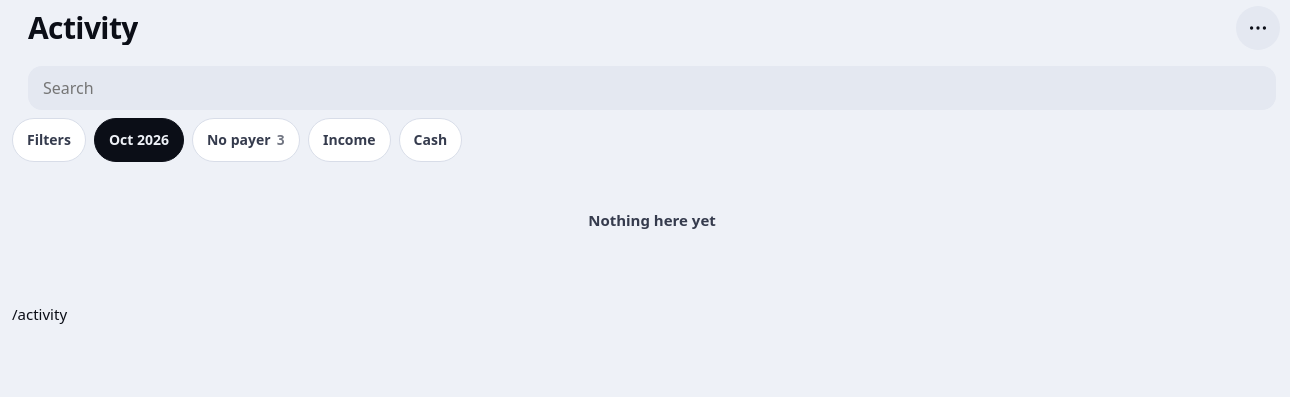
Activity feed › hides chips at 0; No payer shows its count, toggles and clears the month
Click the button "No payer 3".
click(246, 140)  # box x1=192 y1=118 x2=300 y2=162
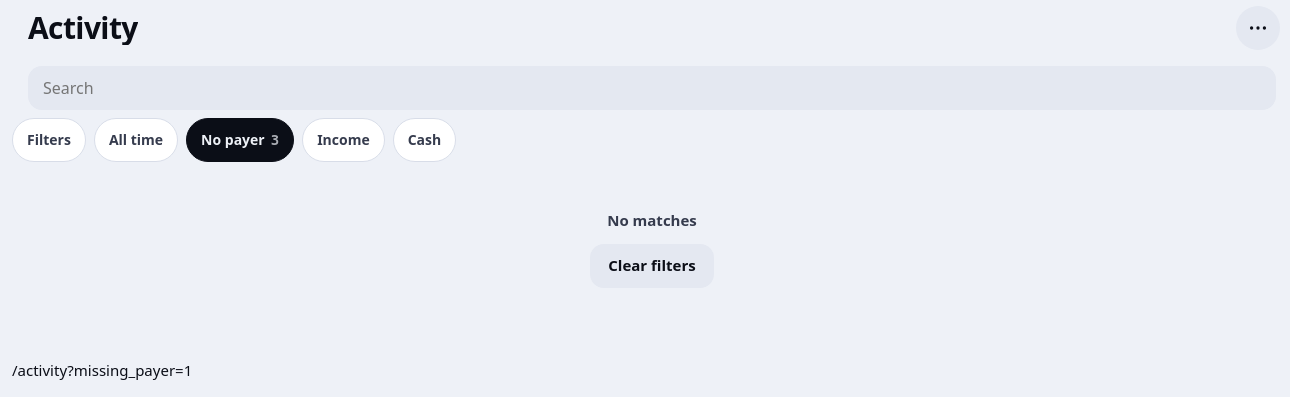
Expected: the text with test id "location" shows "missing_payer=1", x1=12 y1=360 x2=192 y2=380
